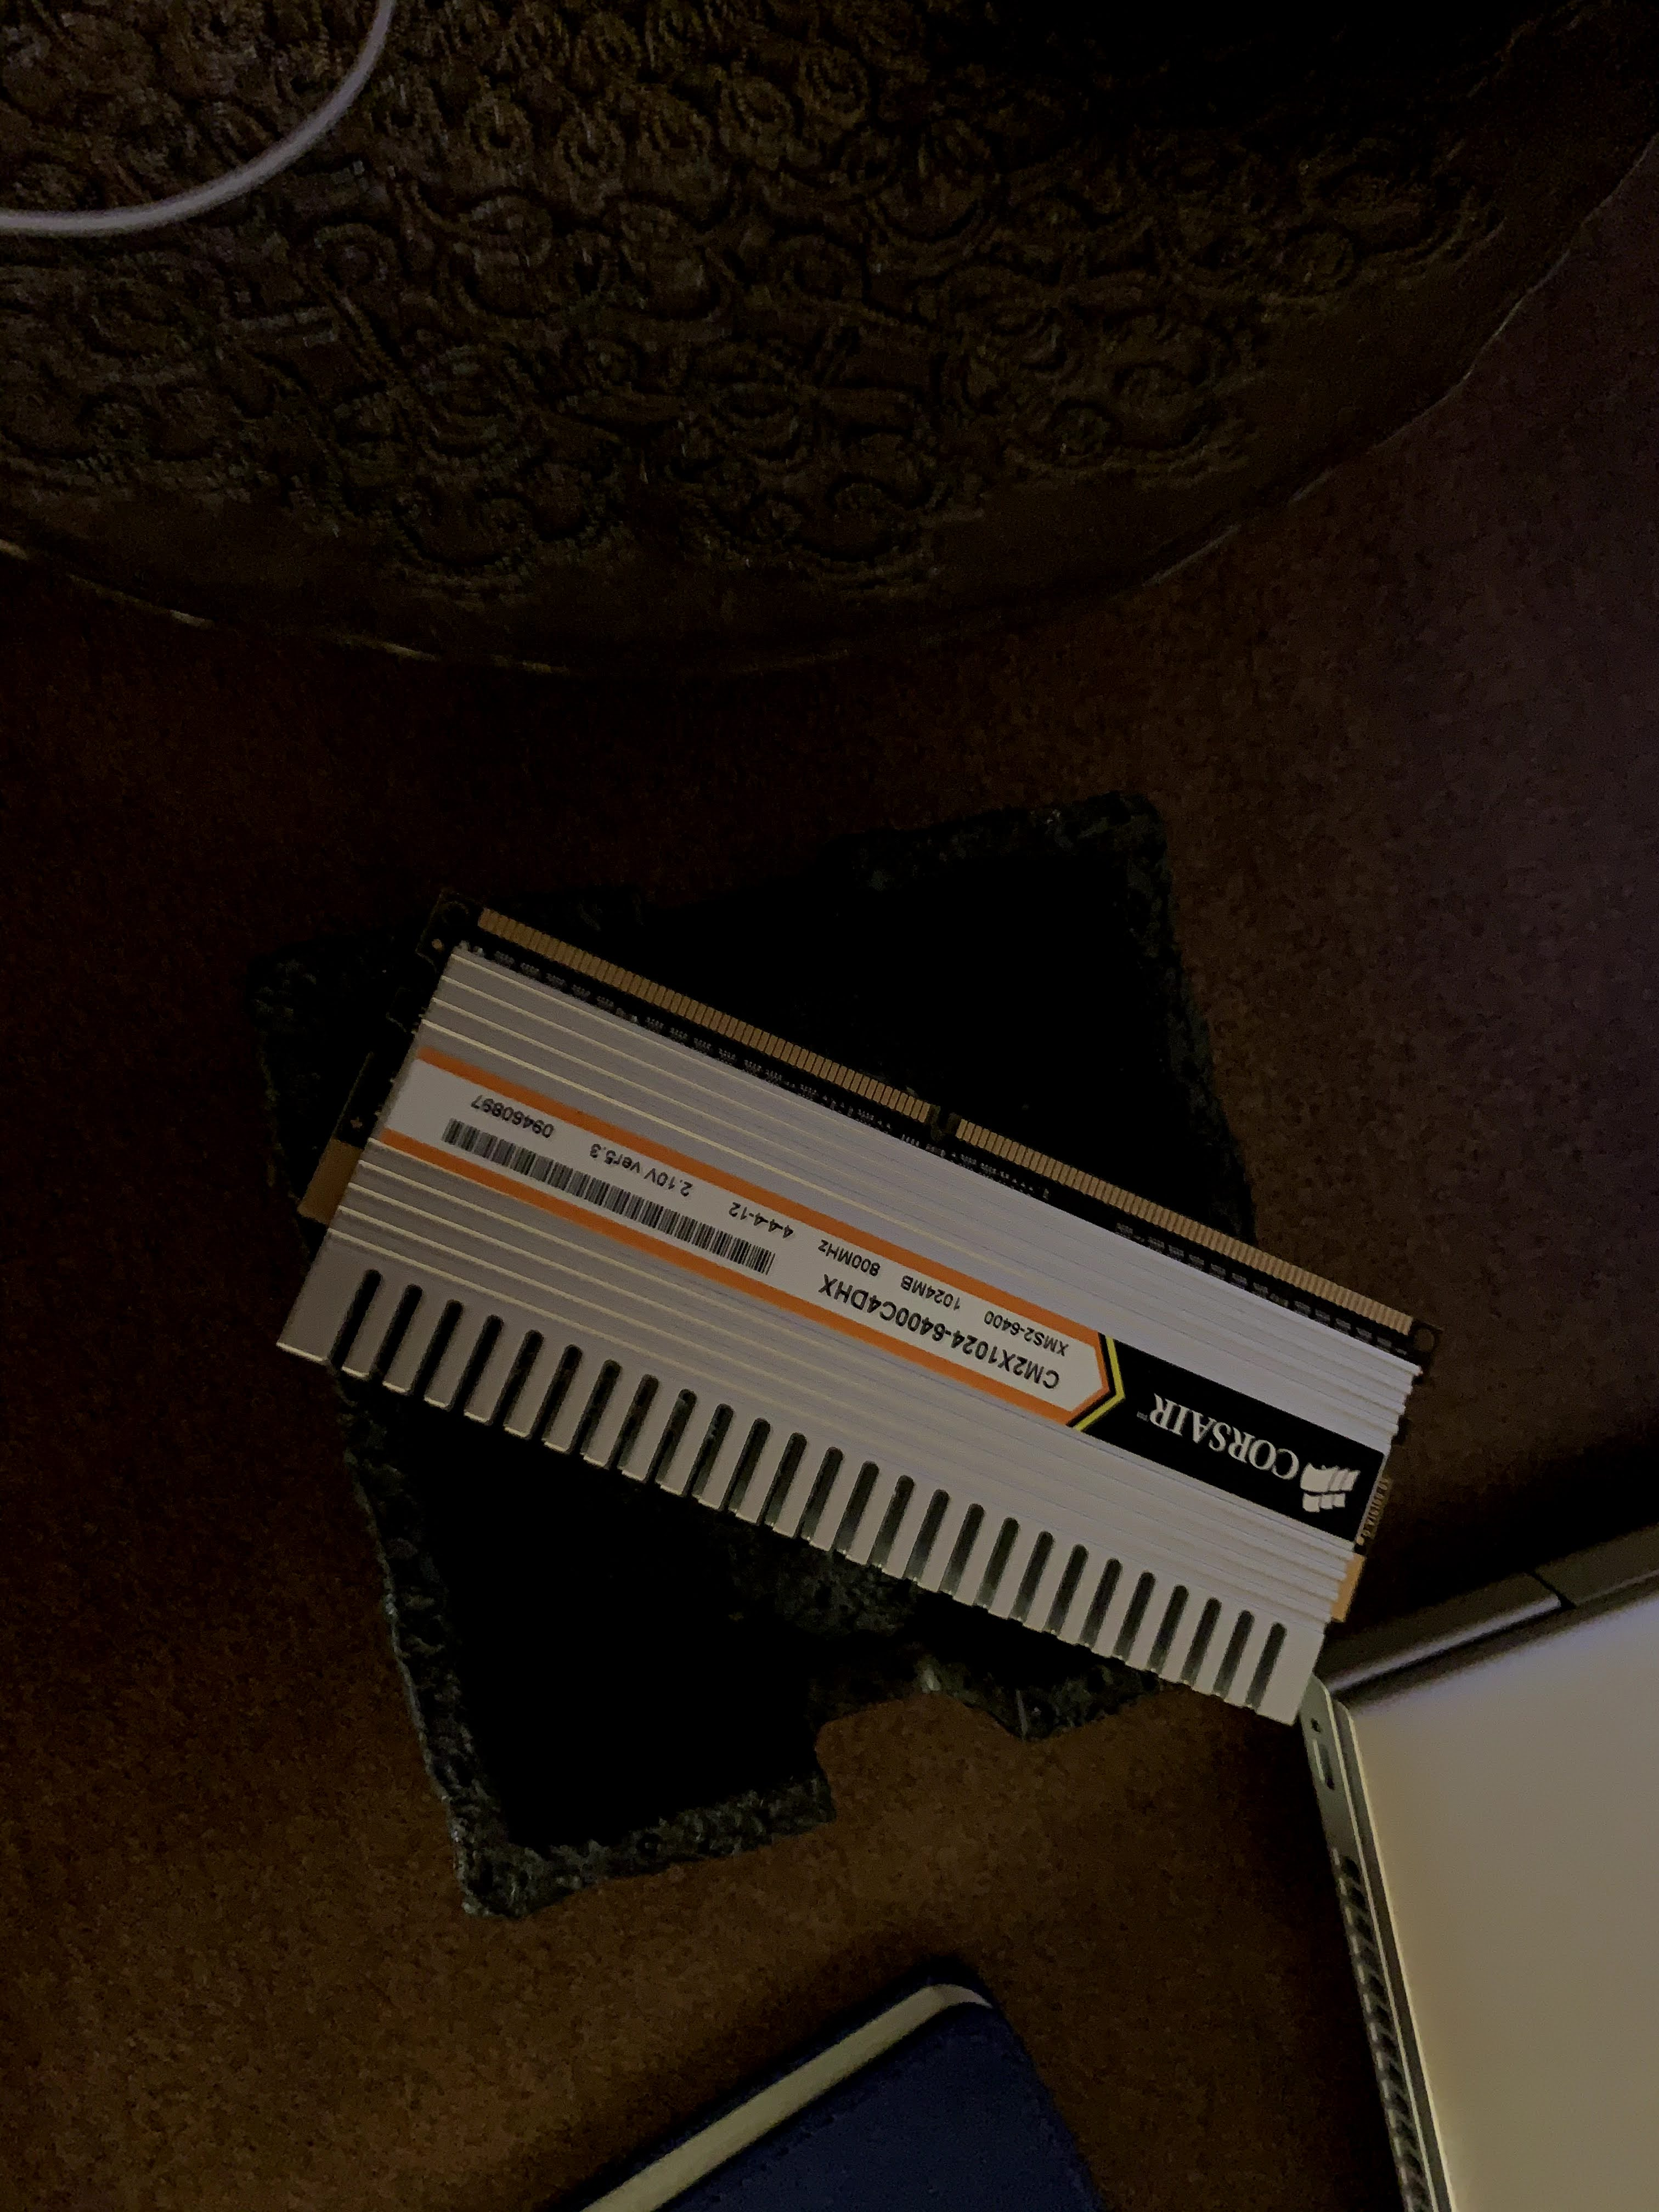Space-debris-medium: (213, 888, 1469, 1750)
